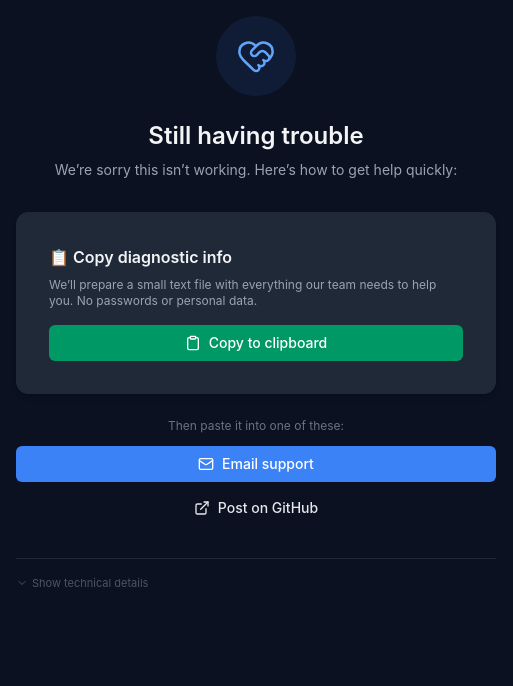
it: ContactSupport › technical details toggle reveals the stack trace
Expected: the text "stack trace here" is not shown
Click the button "Show technical details".
click(82, 583)  # box left=16, top=575, right=148, bottom=592
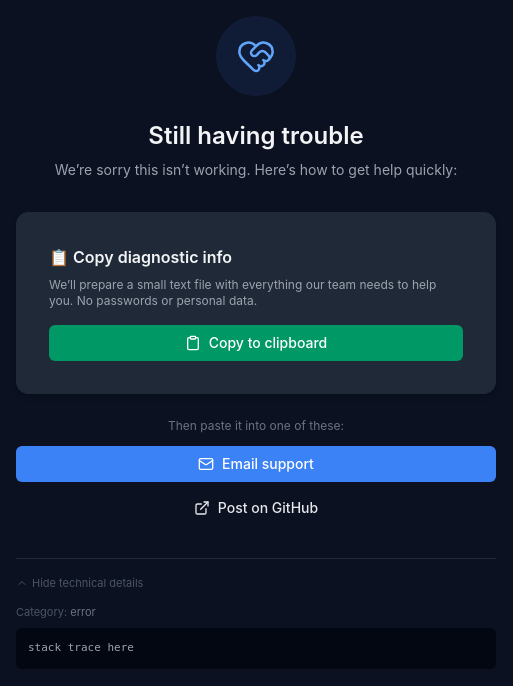
Expected: the text "stack trace here" is shown, left=16, top=628, right=496, bottom=668
